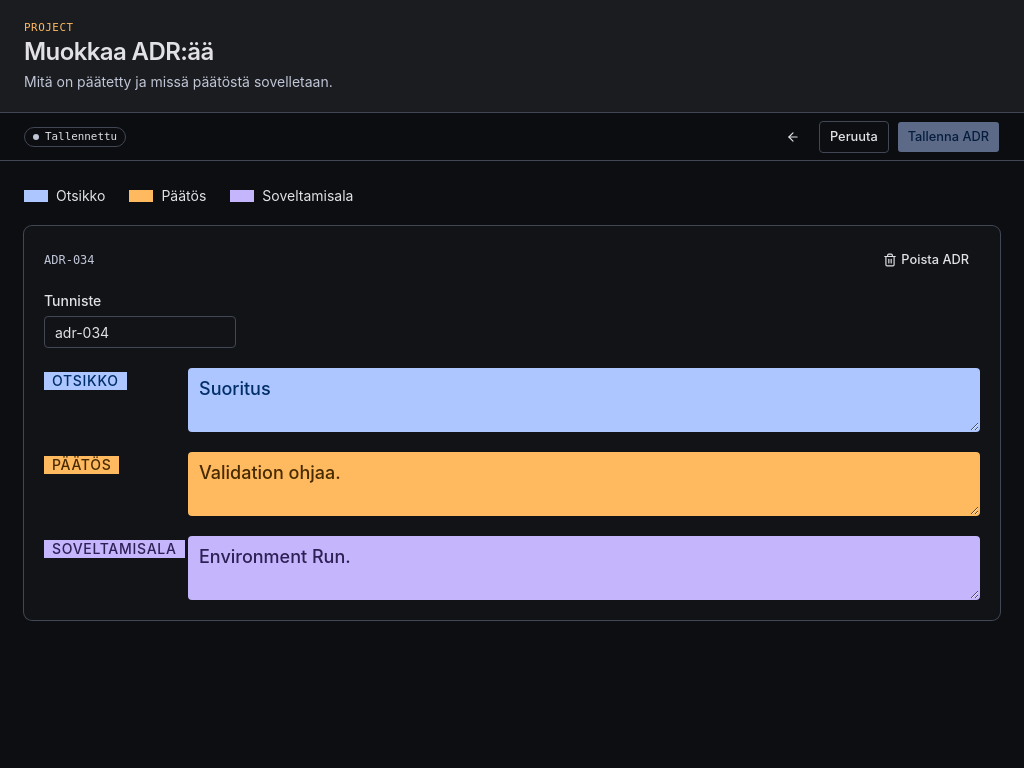
Test: preserves a failed save and reports reference-blocked deletion
Replace the text in the text box labelled "Päätös" with "Oma muutos.": (584, 484) top-left (188, 452), bottom-right (980, 516)
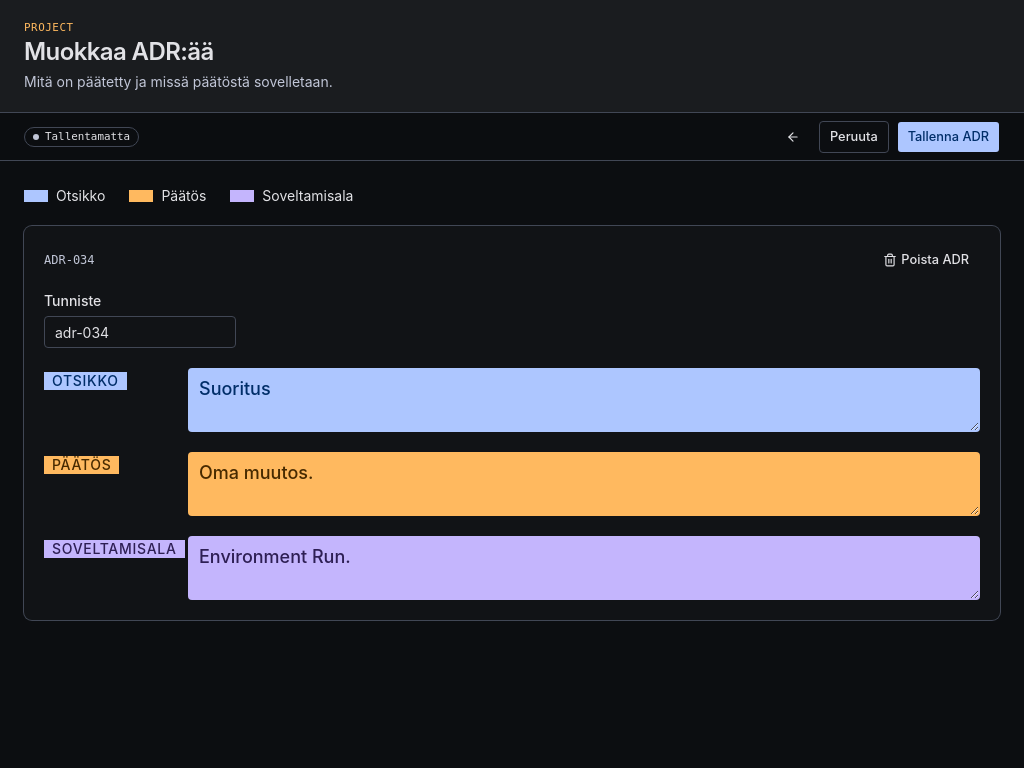
Click the button "Tallenna ADR": (948, 137) top-left (897, 121), bottom-right (1000, 153)
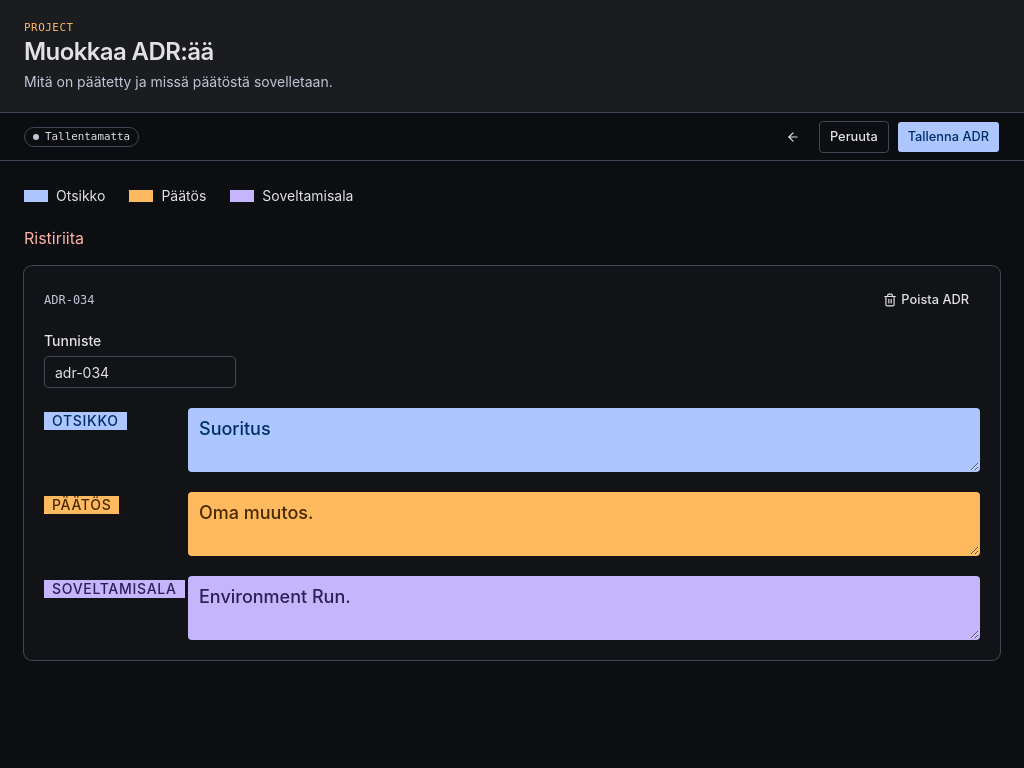
Check: the text "Ristiriita" is shown, box top-left (24, 228), bottom-right (84, 248)
Click the button "Poista ADR": (926, 300) top-left (872, 286), bottom-right (980, 314)
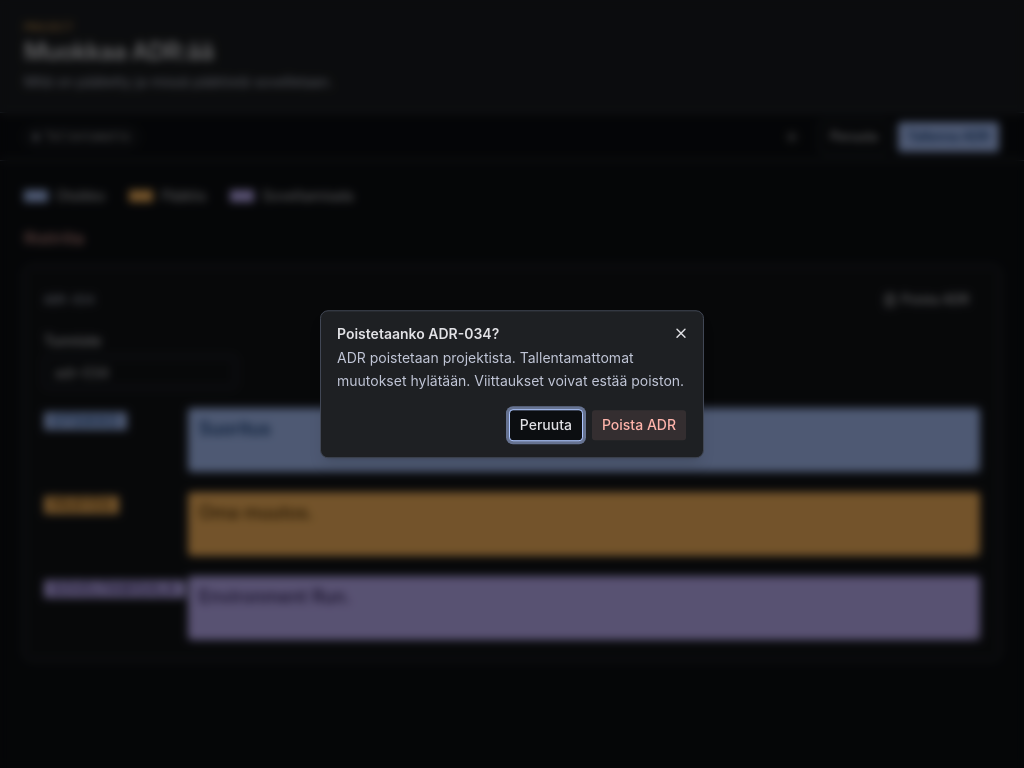
Check: the dialog shows "ADR-034", box top-left (428, 325), bottom-right (492, 342)
Click the button "Poista ADR": (639, 425) top-left (591, 409), bottom-right (687, 441)
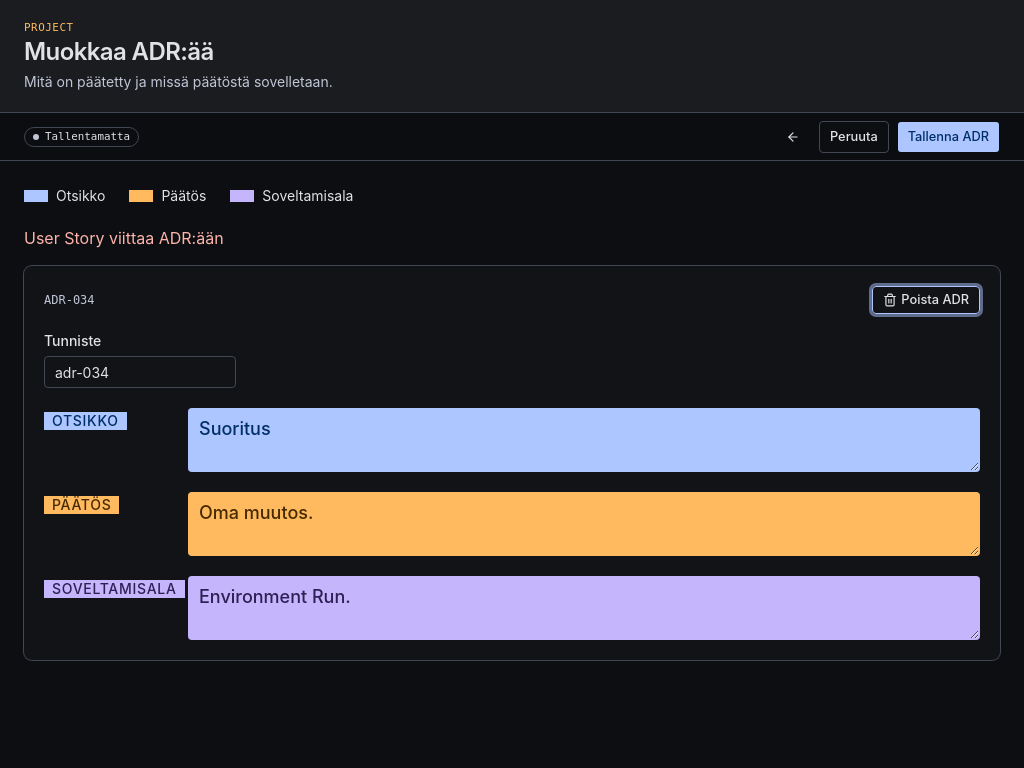
Check: the text "User Story viittaa ADR:ään" is shown, box top-left (24, 228), bottom-right (224, 248)
